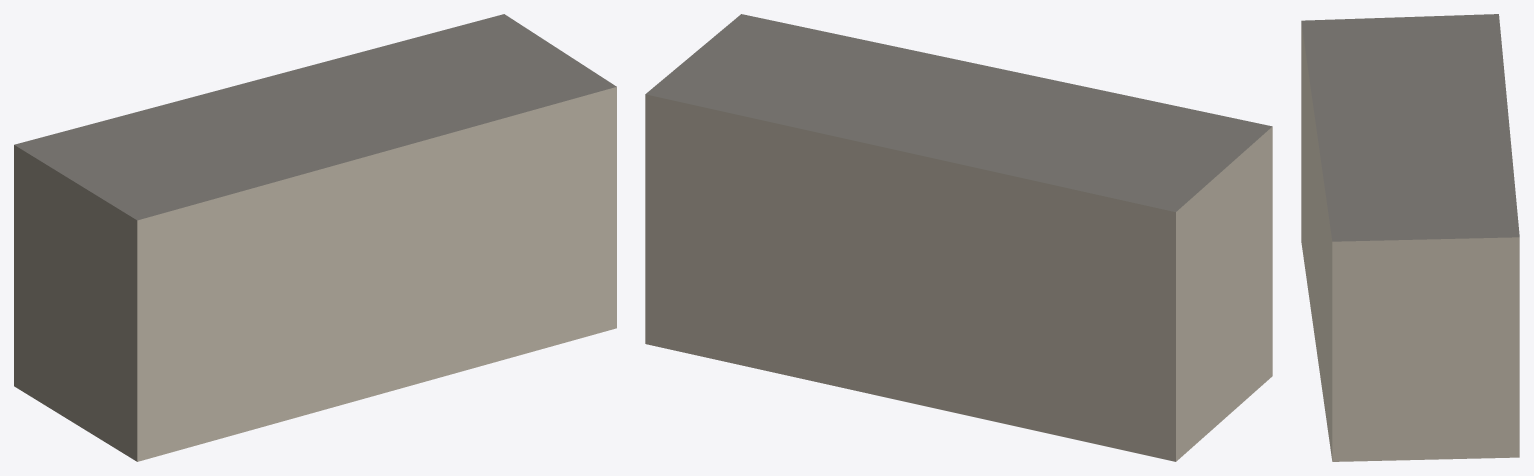
3 views of the same model, side by side, from view 1: azimuth 30°, elevation 25°; view 2: azimuth 150°, elevation 25°; view 3: azimuth 270°, elevation 25° (orthographic). The views are drawn at different scales.
Visible parts, largest first — view 1: HP-w731233910; view 2: HP-w731233910; view 3: HP-w731233910.
Part boxes in pixels (bbox=[...]): HP-w731233910: bbox=[14, 14, 616, 461]; HP-w731233910: bbox=[645, 14, 1272, 461]; HP-w731233910: bbox=[1301, 14, 1519, 461].
Size of the model in its own units: 39.91 by 18 by 16.19.
